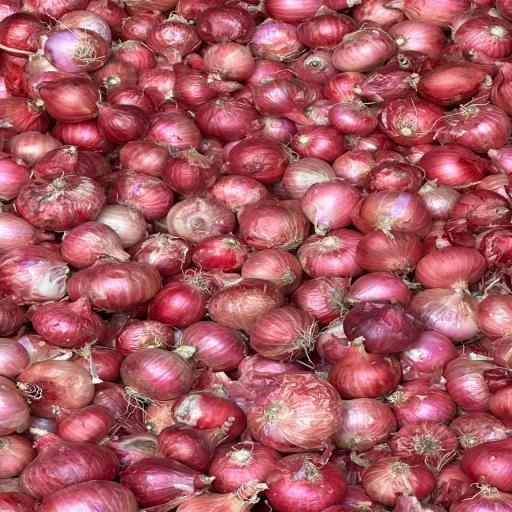healthy: (19, 433, 127, 498), (172, 39, 254, 104), (43, 16, 112, 90), (15, 358, 95, 420), (263, 453, 340, 512), (68, 265, 159, 311), (250, 304, 320, 362), (124, 457, 212, 501), (33, 478, 145, 512), (442, 354, 510, 408), (361, 455, 435, 504), (438, 102, 510, 152), (411, 292, 480, 344), (58, 222, 134, 269), (150, 266, 207, 328), (169, 321, 242, 369), (28, 306, 107, 349), (415, 244, 484, 293), (237, 202, 310, 248), (302, 180, 363, 235), (198, 92, 260, 145), (459, 430, 512, 492), (98, 84, 152, 144), (241, 246, 303, 296), (416, 63, 487, 106), (418, 144, 486, 188), (167, 390, 238, 432), (339, 398, 393, 453), (333, 26, 396, 72), (108, 171, 174, 214), (332, 356, 396, 400), (393, 19, 446, 72), (378, 96, 434, 146), (360, 227, 422, 272), (38, 77, 98, 121), (391, 385, 456, 425), (251, 76, 315, 115), (195, 5, 259, 44), (142, 110, 200, 150), (248, 19, 304, 60), (148, 18, 202, 60), (287, 124, 344, 163), (208, 175, 272, 208), (56, 410, 115, 444), (297, 12, 354, 47), (329, 99, 379, 138), (116, 138, 170, 174), (0, 92, 43, 136), (113, 320, 173, 351), (396, 0, 474, 22), (13, 0, 94, 18), (294, 48, 333, 85), (261, 0, 330, 20), (102, 0, 185, 16), (0, 336, 29, 381), (492, 55, 512, 120), (58, 121, 104, 149)
